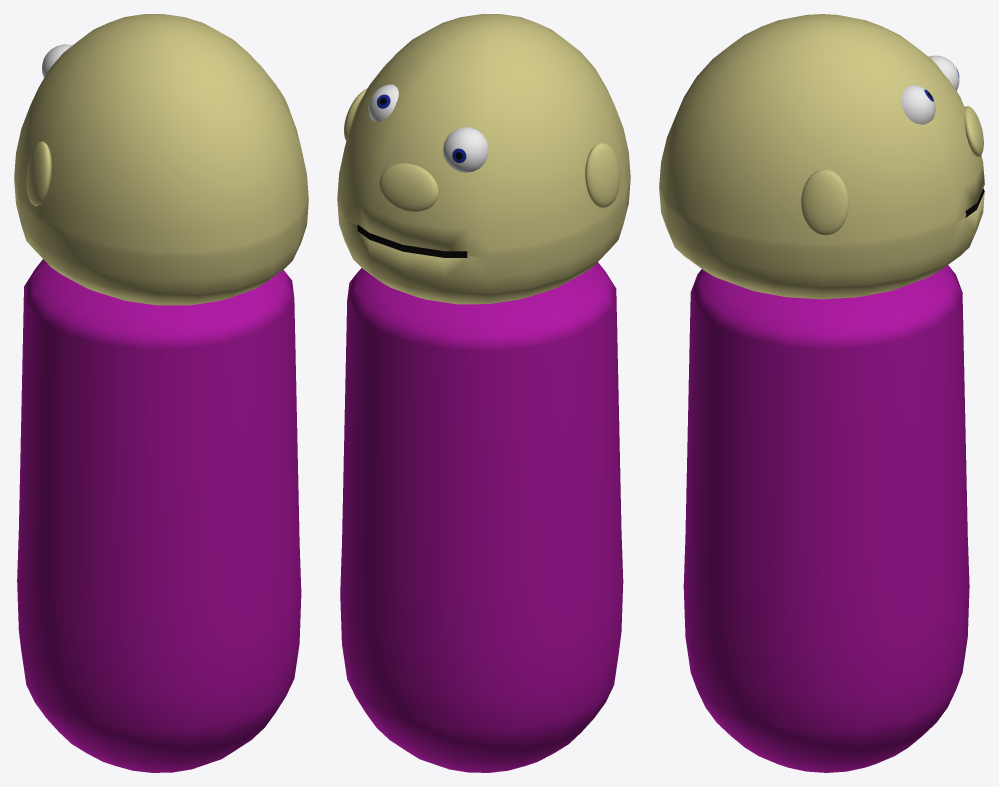
Rendered from Guy.fbx.
3 views of the same model, side by side, from view 1: azimuth 30°, elevation 25°; view 2: azimuth 150°, elevation 25°; view 3: azimuth 270°, elevation 25° (orthographic).
Parts seen in each view (by area): view 1: pasted__pSphere4; view 2: pasted__pSphere4; view 3: pasted__pSphere4.
Part boxes in pixels (x1,y1,x2,y2): pasted__pSphere4: (14,14,308,772); pasted__pSphere4: (337,14,630,772); pasted__pSphere4: (659,14,984,772).
Size of the model in its own units: 2.12 by 5.67 by 2.28.
